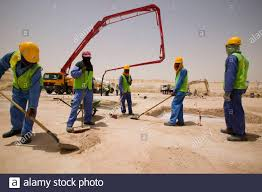helmet: (19, 42, 40, 63), (223, 35, 241, 45), (173, 55, 183, 63), (81, 50, 91, 57), (123, 63, 129, 69)
vest: (11, 58, 40, 92), (228, 55, 249, 92), (73, 65, 94, 88), (175, 71, 187, 92), (120, 76, 132, 92)
